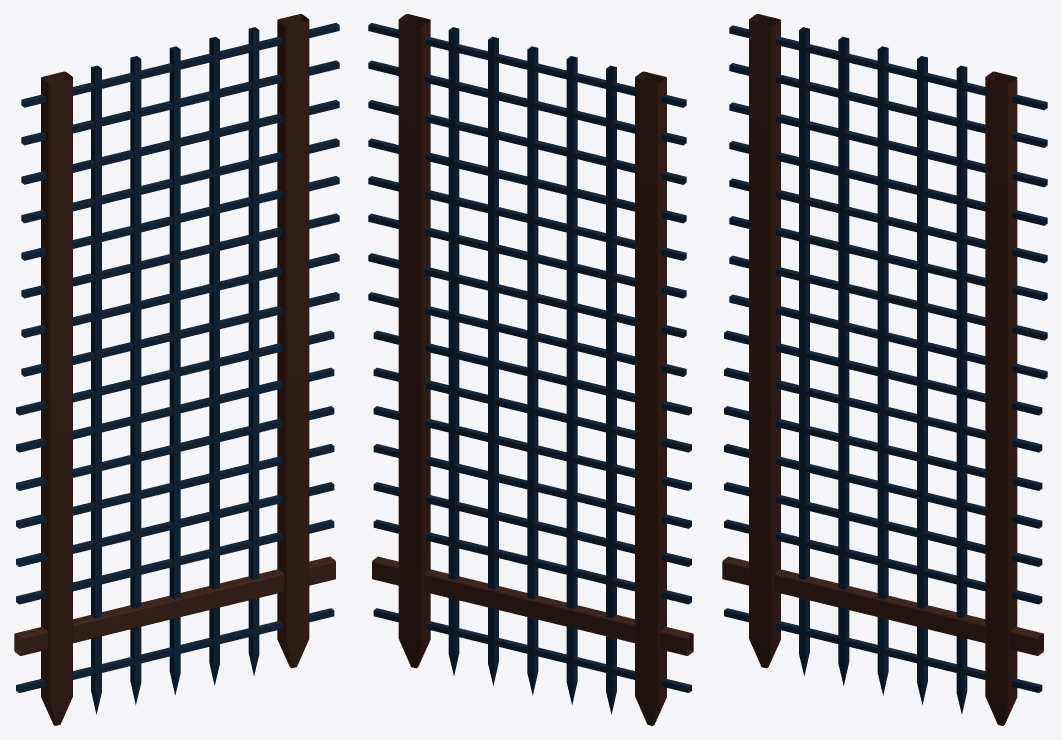
File: castle_portcullis.FBX
3 views of the same model, side by side, from view 1: azimuth 30°, elevation 25°; view 2: azimuth 150°, elevation 25°; view 3: azimuth 330°, elevation 25° (orthographic).
Parts seen in each view (by area): view 1: castle_portcullis; view 2: castle_portcullis; view 3: castle_portcullis.
Part boxes in pixels (x1,y1,x2,y2): castle_portcullis: (14, 14, 339, 725); castle_portcullis: (368, 14, 693, 725); castle_portcullis: (722, 14, 1047, 725).
Bounding box in the file's own units: 689 × 1330 × 32.58.
